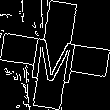M_N: (28, 27, 82, 83)
